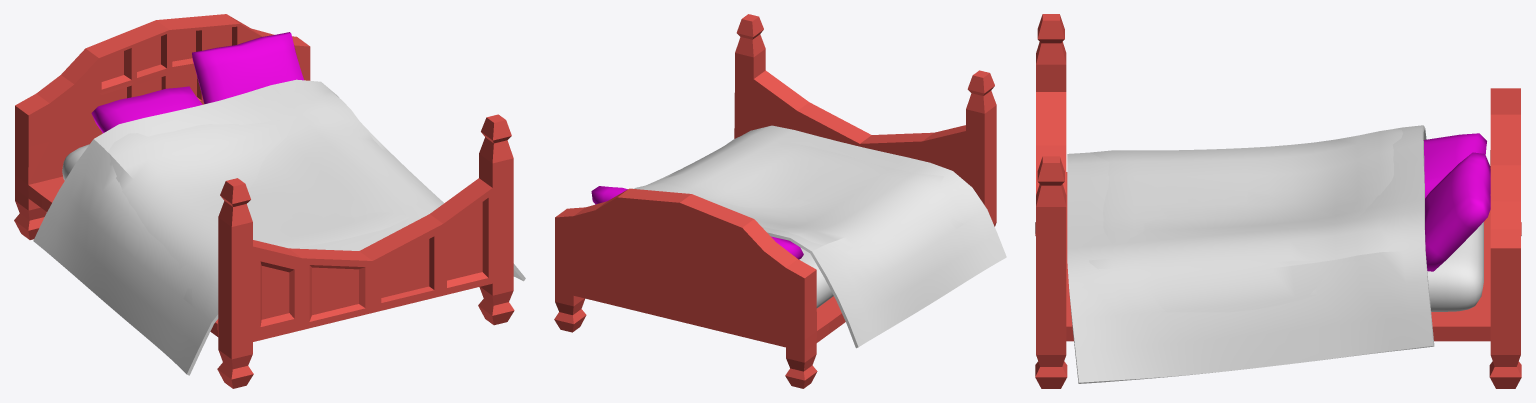
The model's file is MasterBed.fbx.
The picture shows the model from 3 angles, left to right: view 1: azimuth 30°, elevation 25°; view 2: azimuth 150°, elevation 25°; view 3: azimuth 270°, elevation 25°; orthographic projection. The views are drawn at different scales.
Parts seen in each view (by area): view 1: Cube.003, Bed.001; view 2: Cube.003, Bed.001; view 3: Cube.003, Bed.001.
Boxes of the visible parts, x1=… form: Cube.003: x1=14, y1=14, x2=525, y2=388; Bed.001: x1=91, y1=32, x2=303, y2=133; Cube.003: x1=554, y1=14, x2=1006, y2=388; Bed.001: x1=591, y1=186, x2=803, y2=259; Cube.003: x1=1035, y1=14, x2=1521, y2=388; Bed.001: x1=1423, y1=133, x2=1490, y2=271.
Bounding box in the file's own units: 469 × 265 × 517.
